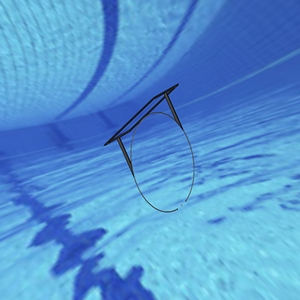circle: (102, 82, 197, 213)
